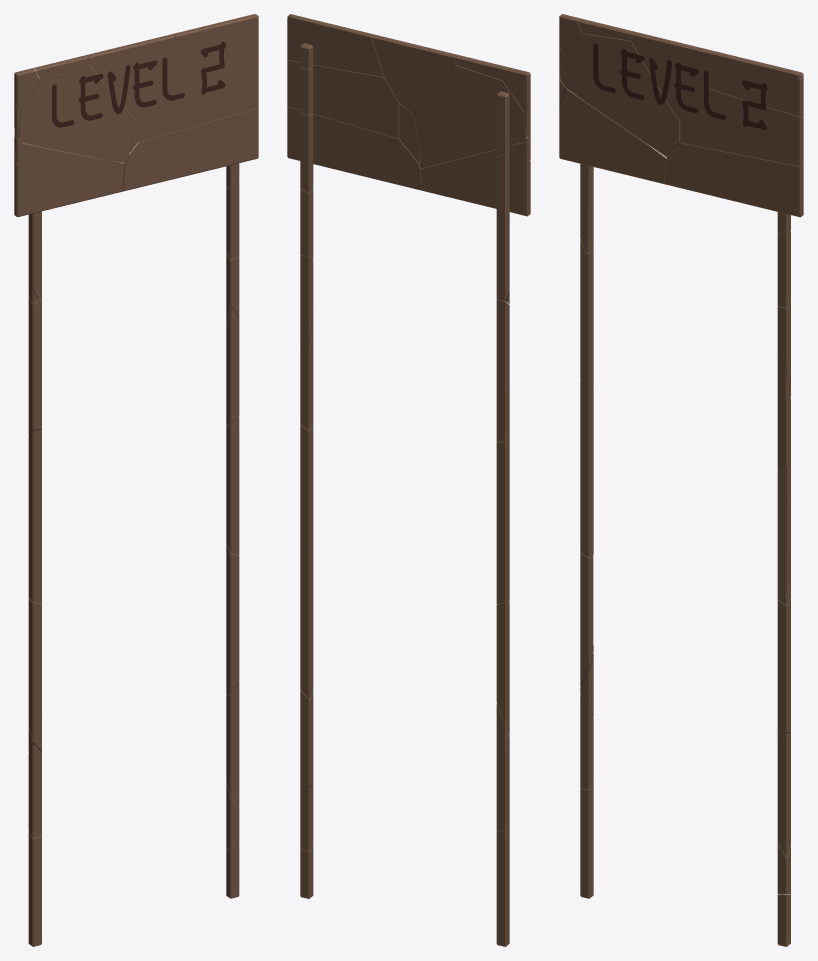
Rendered from bsign-level2.fbx.
3 renders of one model, left to right at view 1: azimuth 30°, elevation 25°; view 2: azimuth 150°, elevation 25°; view 3: azimuth 330°, elevation 25°, orthographic.
Parts seen in each view (by area): view 1: sign_level2_01.003, sign_level2_01.001_cell.034, sign_level2_01.001_cell.029, sign_level2_01.007, sign_level2_01.001_cell.010, sign_level2_01.001_cell.030, sign_level2_01.001_cell.026, sign_level2_01.001_cell.001, sign_level2_01.001_cell.024, sign_level2_01.001_cell.008, sign_level2_01.001_cell.011, sign_level2_01.001_cell.012 (+9 smaller); view 2: sign_level2_01.003, sign_level2_01.001_cell.029, sign_level2_01.001_cell.034, sign_level2_01.007, sign_level2_01.001_cell.030, sign_level2_01.001_cell.010, sign_level2_01.001_cell.026, sign_level2_01.001_cell.001, sign_level2_01.001_cell.008, sign_level2_01.001_cell.024, sign_level2_01.001_cell.011, sign_level2_01.001_cell.012 (+12 smaller); view 3: sign_level2_01.003, sign_level2_01.001_cell.029, sign_level2_01.007, sign_level2_01.001_cell.034, sign_level2_01.001_cell.010, sign_level2_01.001_cell.030, sign_level2_01.001_cell.026, sign_level2_01.001_cell.024, sign_level2_01.001_cell.001, sign_level2_01.001_cell.008, sign_level2_01.001_cell.011, sign_level2_01.001_cell.013 (+9 smaller).
Part boxes in pixels (left/top/right/bottom): sign_level2_01.003: left=18, top=64, right=135, bottom=162; sign_level2_01.001_cell.034: left=14, top=140, right=124, bottom=299; sign_level2_01.001_cell.029: left=122, top=107, right=258, bottom=191; sign_level2_01.007: left=138, top=41, right=258, bottom=142; sign_level2_01.001_cell.010: left=87, top=34, right=174, bottom=119; sign_level2_01.001_cell.030: left=167, top=14, right=258, bottom=74; sign_level2_01.001_cell.026: left=28, top=430, right=41, bottom=603; sign_level2_01.001_cell.001: left=226, top=546, right=239, bottom=694; sign_level2_01.001_cell.024: left=226, top=417, right=239, bottom=555; sign_level2_01.001_cell.008: left=28, top=297, right=41, bottom=434; sign_level2_01.001_cell.011: left=28, top=598, right=41, bottom=736; sign_level2_01.001_cell.012: left=28, top=831, right=41, bottom=946; sign_level2_01.003: left=413, top=65, right=526, bottom=157; sign_level2_01.001_cell.029: left=287, top=106, right=422, bottom=193; sign_level2_01.001_cell.034: left=420, top=141, right=530, bottom=301; sign_level2_01.007: left=287, top=59, right=400, bottom=138; sign_level2_01.001_cell.030: left=287, top=14, right=383, bottom=76; sign_level2_01.001_cell.010: left=371, top=34, right=458, bottom=115; sign_level2_01.001_cell.026: left=496, top=431, right=509, bottom=603; sign_level2_01.001_cell.001: left=300, top=550, right=313, bottom=698; sign_level2_01.001_cell.008: left=496, top=299, right=509, bottom=441; sign_level2_01.001_cell.024: left=300, top=424, right=313, bottom=552; sign_level2_01.001_cell.011: left=496, top=601, right=509, bottom=735; sign_level2_01.001_cell.012: left=496, top=830, right=509, bottom=946; sign_level2_01.003: left=560, top=33, right=677, bottom=156; sign_level2_01.001_cell.029: left=664, top=143, right=803, bottom=233; sign_level2_01.007: left=680, top=70, right=803, bottom=166; sign_level2_01.001_cell.034: left=559, top=88, right=666, bottom=252; sign_level2_01.001_cell.010: left=630, top=31, right=718, bottom=118; sign_level2_01.001_cell.030: left=708, top=52, right=803, bottom=116; sign_level2_01.001_cell.026: left=580, top=381, right=593, bottom=557; sign_level2_01.001_cell.024: left=777, top=468, right=790, bottom=605; sign_level2_01.001_cell.001: left=777, top=598, right=790, bottom=738; sign_level2_01.001_cell.008: left=580, top=247, right=593, bottom=389; sign_level2_01.001_cell.011: left=580, top=552, right=593, bottom=686; sign_level2_01.001_cell.013: left=777, top=732, right=790, bottom=856.
Bounding box in the file's own units: 92.94 × 322 × 4.88.
